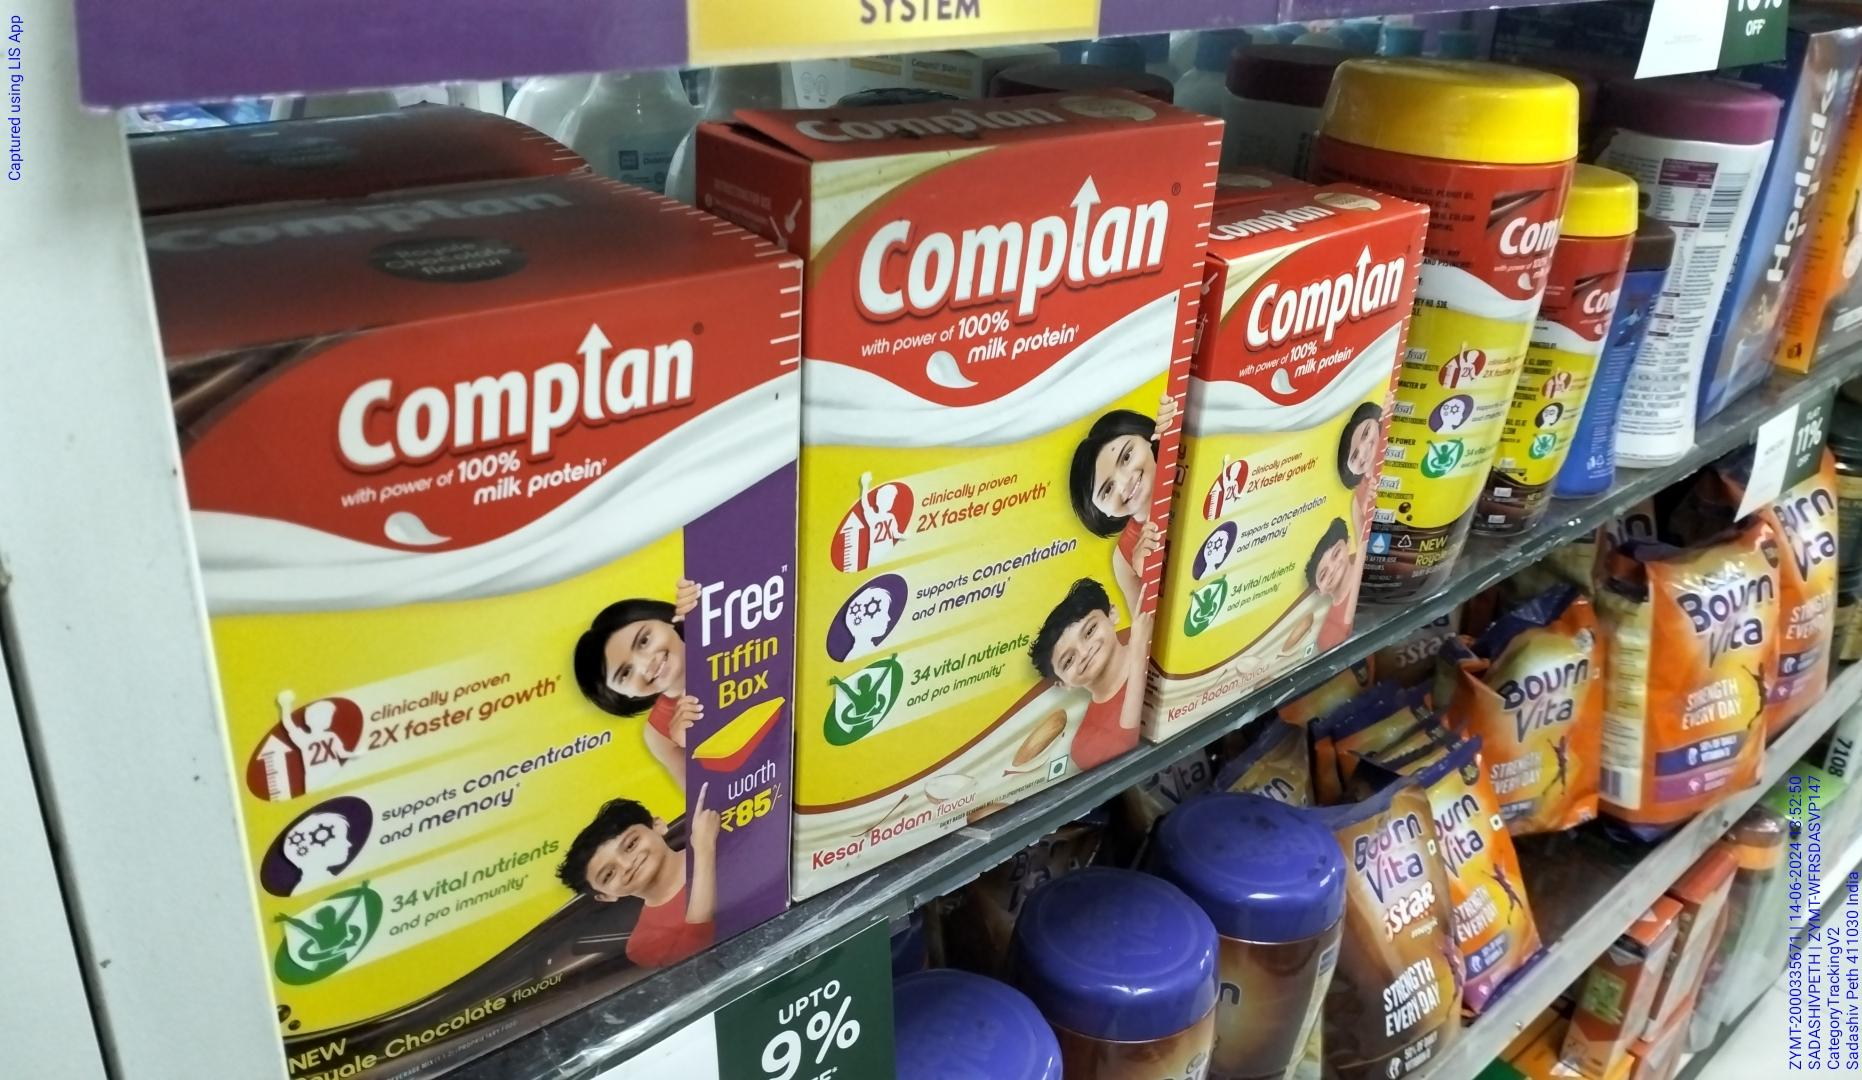BOURN_VITA_750_G_POUCH: (1642, 526, 1778, 828)
COMPLAN_CHOCOLATE_500_GMS_PACK: (224, 282, 790, 1036)
COMPLAN_KESAR_BADAM_200_GMS_PACK: (1172, 224, 1393, 742)
COMPLAN_KESAR_BADAM_500_GMS_PACK: (810, 123, 1164, 850)
